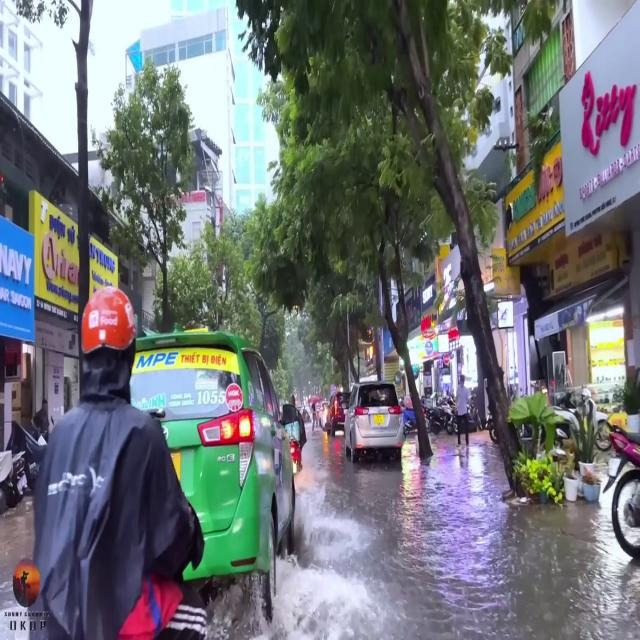bien_vang: (376, 411, 386, 428)
